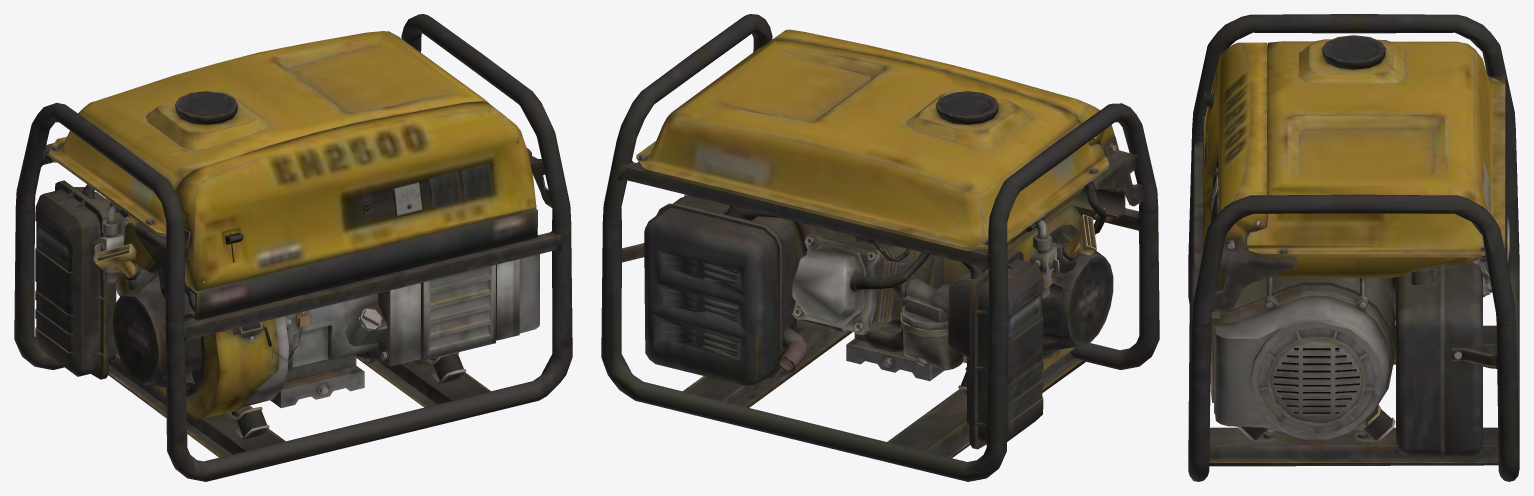
File: portable_generator_lod1.glb
3 views of the same model, side by side, from view 1: azimuth 30°, elevation 25°; view 2: azimuth 150°, elevation 25°; view 3: azimuth 270°, elevation 25° (orthographic).
Visible parts, largest first — view 1: portable_generator; view 2: portable_generator; view 3: portable_generator.
Part boxes in pixels (x1=…): portable_generator: x1=14, y1=14, x2=572, y2=481; portable_generator: x1=601, y1=14, x2=1159, y2=481; portable_generator: x1=1188, y1=14, x2=1519, y2=481.
Size of the model in its own units: 0.8169 by 0.5752 by 0.564.
2 materials, 2 textured.
